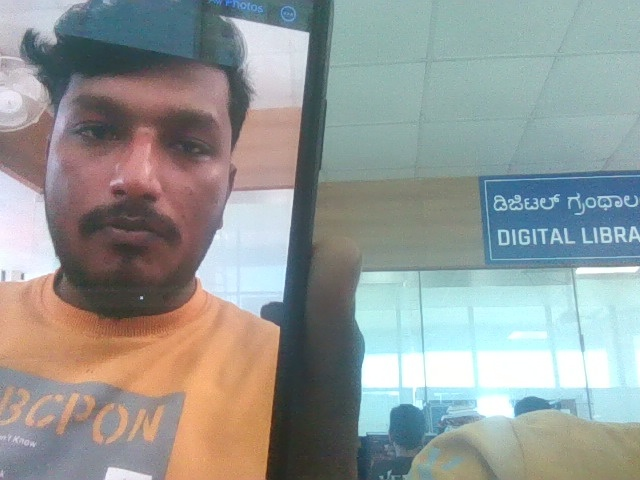fake: (13, 0, 259, 348)
